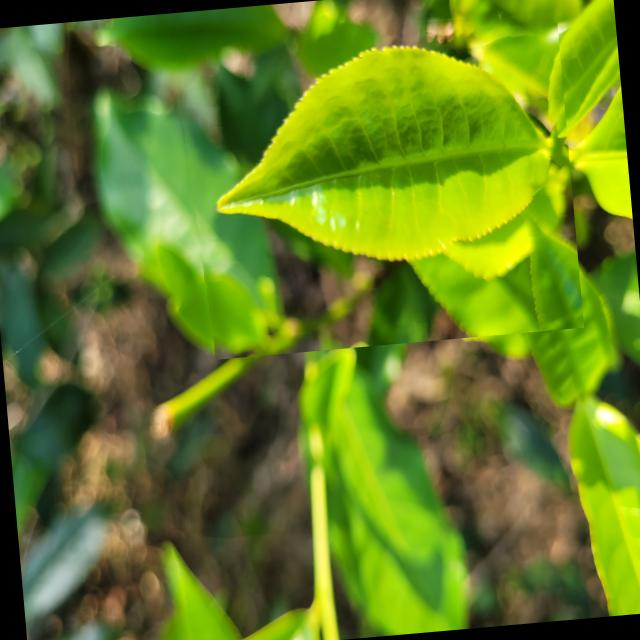Category B(2-4 days): (172, 8, 584, 360)
